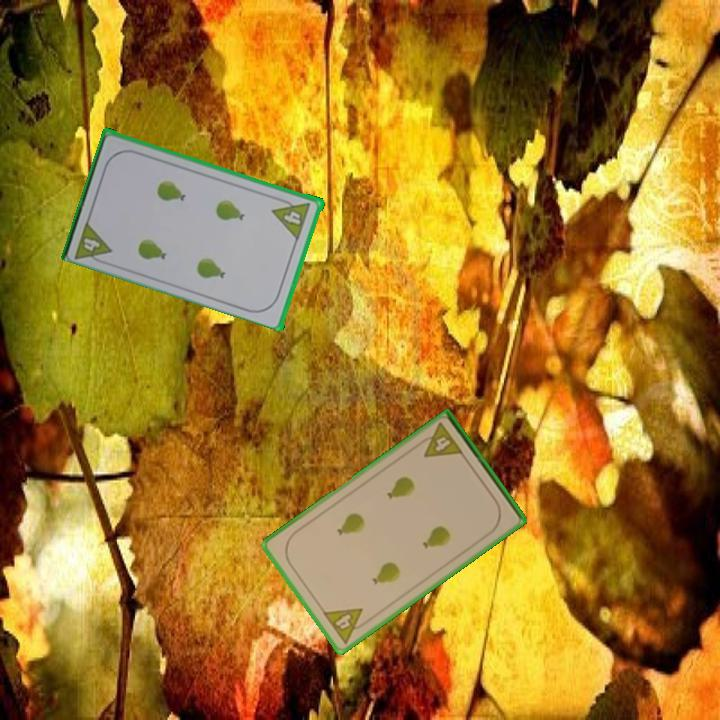4p: (71, 216, 115, 268), (319, 605, 373, 647), (414, 419, 466, 461), (270, 194, 314, 242)
